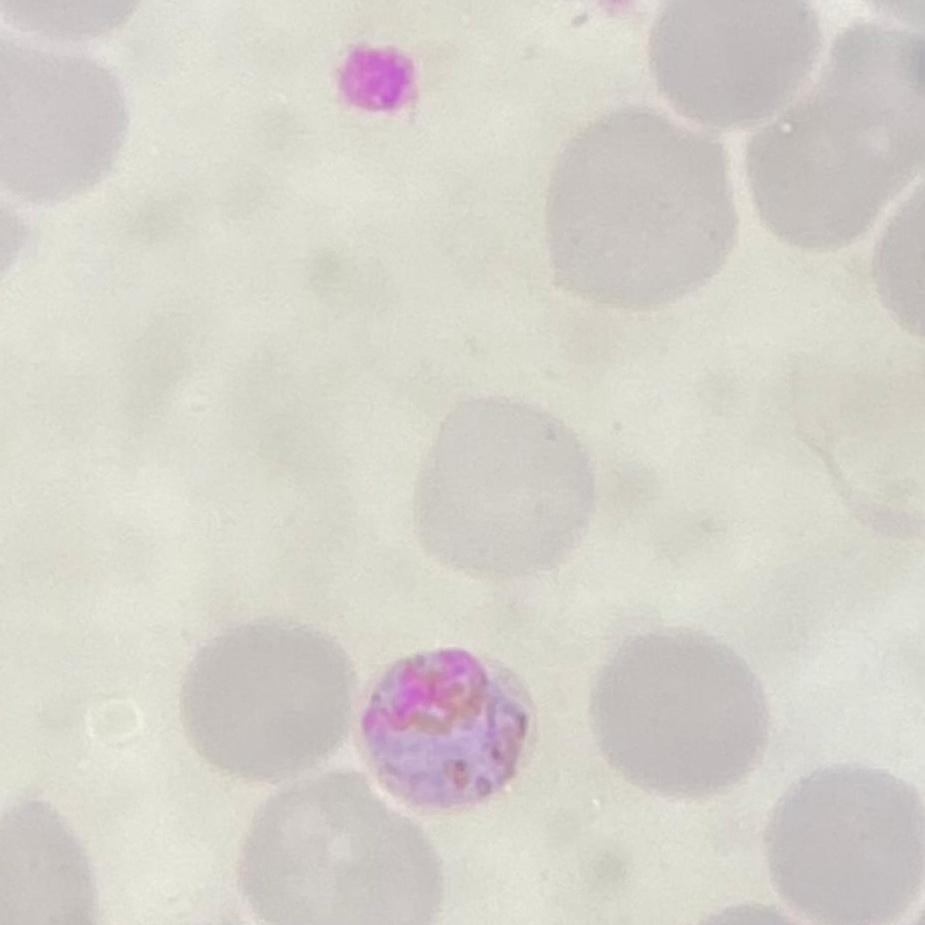Infected: (352, 646, 539, 822)
Uninfected: (752, 6, 925, 247), (548, 106, 736, 314), (407, 393, 594, 572), (590, 618, 768, 804), (238, 768, 442, 925), (177, 621, 354, 786), (765, 763, 925, 925), (645, 1, 822, 137), (2, 33, 129, 204)
